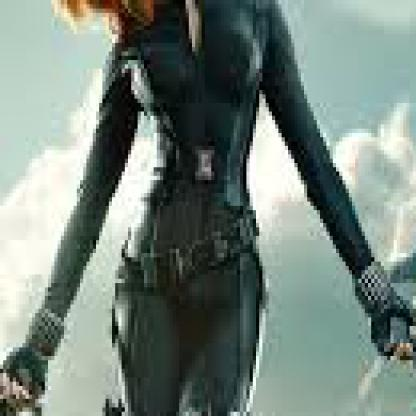gun: (0, 206, 413, 412)
